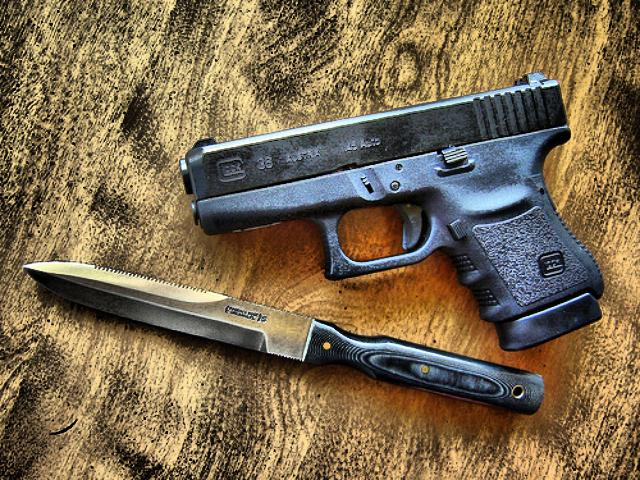pistol: (174, 66, 602, 350)
